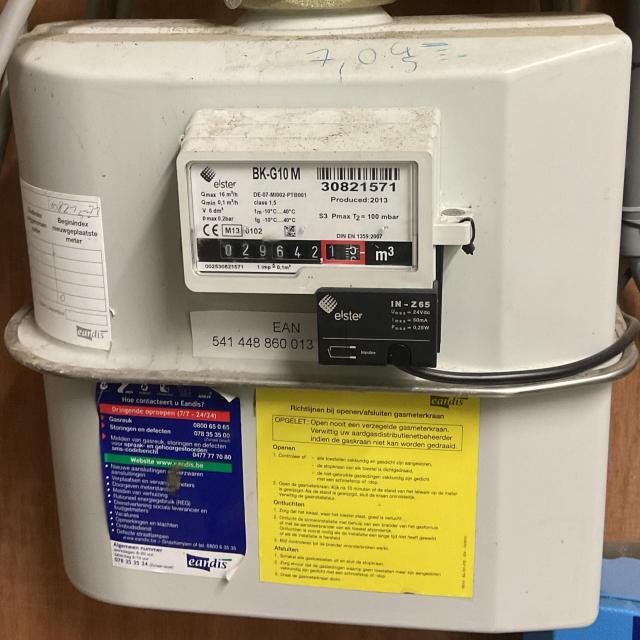gaz_meter: (187, 158, 423, 276)
indication: (217, 241, 366, 268)
